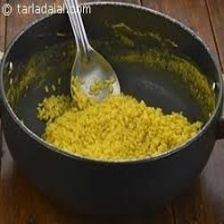dal: (33, 74, 204, 160)
